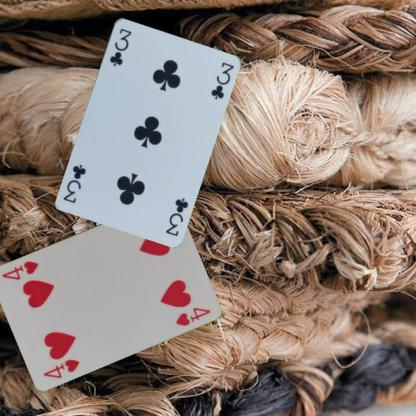3c: (162, 195, 190, 237), (106, 25, 133, 67)
4h: (41, 356, 81, 379)
